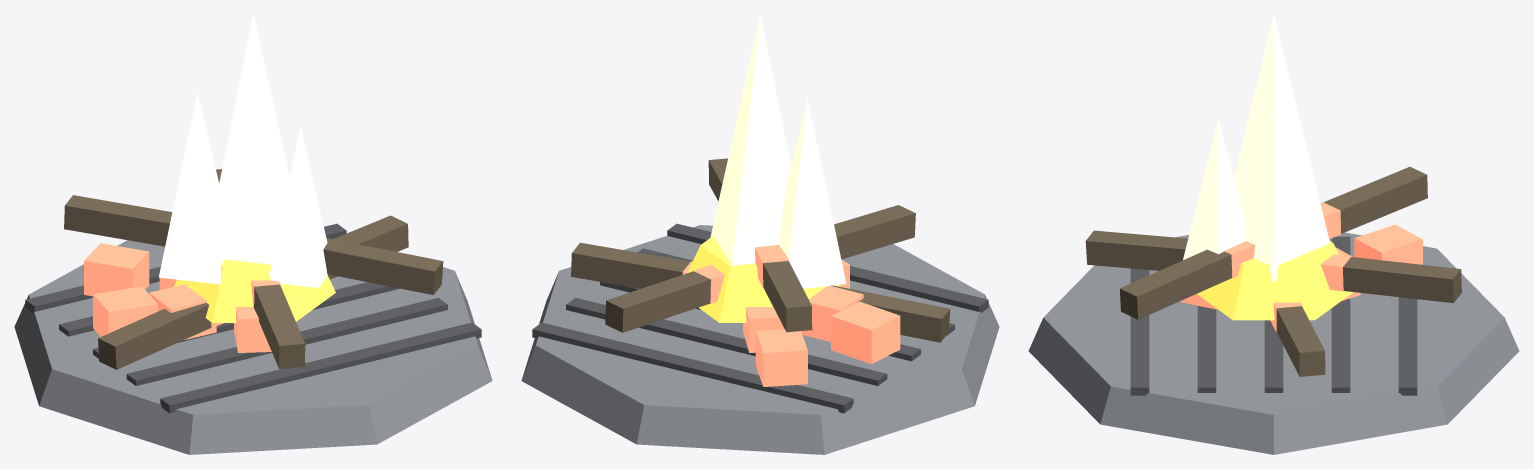
The model's file is brazier_lit.glb.
3 views of the same model, side by side, from view 1: azimuth 30°, elevation 25°; view 2: azimuth 150°, elevation 25°; view 3: azimuth 270°, elevation 25° (orthographic).
Parts seen in each view (by area): view 1: silverfog_d20, kindle_l15_glow, driftwood_d35, silverfog_d50, coal_l10_glow, ember_glow; view 2: silverfog_d20, kindle_l15_glow, driftwood_d35, silverfog_d50, coal_l10_glow, ember_glow; view 3: silverfog_d20, kindle_l15_glow, driftwood_d35, silverfog_d50, ember_glow, coal_l10_glow.
Boxes of the visible parts, x1,y1,x2,y2 form: silverfog_d20: [14, 240, 492, 454]; kindle_l15_glow: [158, 14, 327, 287]; driftwood_d35: [64, 169, 443, 369]; silverfog_d50: [25, 223, 481, 413]; coal_l10_glow: [84, 243, 280, 352]; ember_glow: [174, 259, 335, 322]; silverfog_d20: [521, 225, 999, 454]; kindle_l15_glow: [710, 14, 846, 288]; driftwood_d35: [571, 158, 950, 342]; silverfog_d50: [532, 223, 988, 413]; coal_l10_glow: [682, 245, 900, 386]; ember_glow: [687, 236, 839, 322]; silverfog_d20: [1028, 232, 1519, 454]; kindle_l15_glow: [1183, 15, 1329, 281]; driftwood_d35: [1085, 166, 1461, 376]; silverfog_d50: [1130, 236, 1417, 395]; ember_glow: [1197, 241, 1353, 320]; coal_l10_glow: [1181, 202, 1422, 332].
Size of the model in its own units: 0.66 by 0.5 by 0.66.
